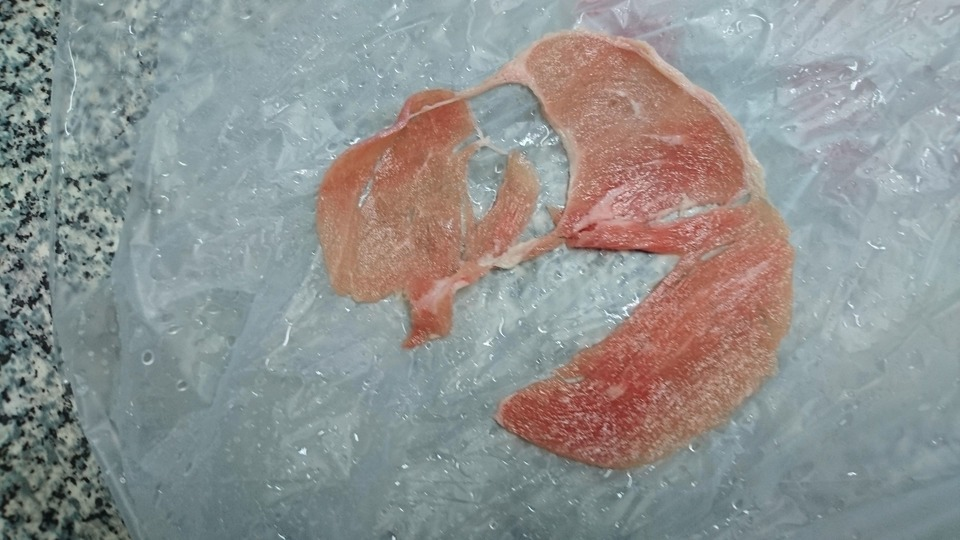restructured meat: (296, 55, 806, 465)
